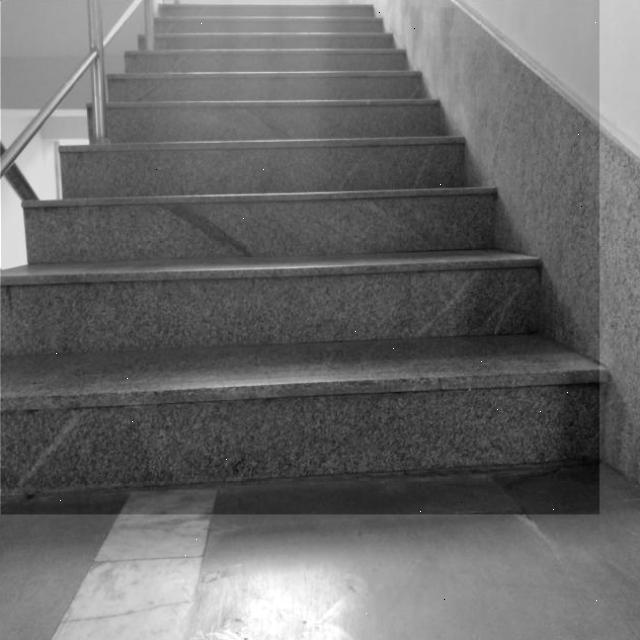stair: (1, 0, 599, 514)
